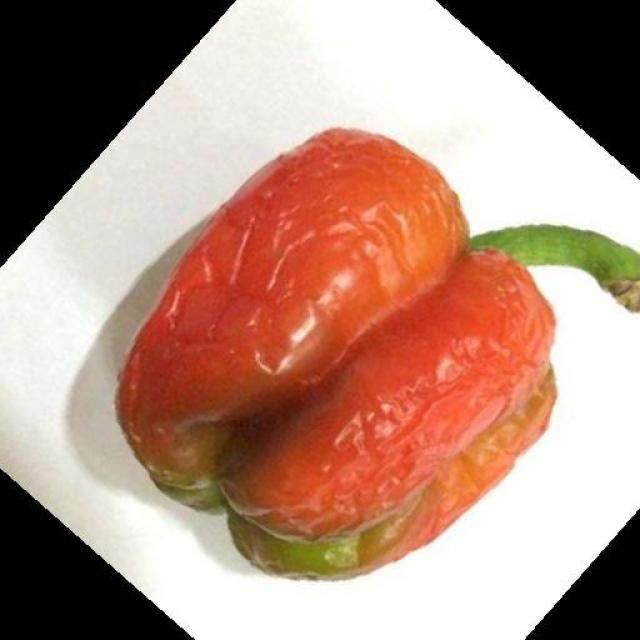Stale_Capsicum: (130, 122, 610, 548)
